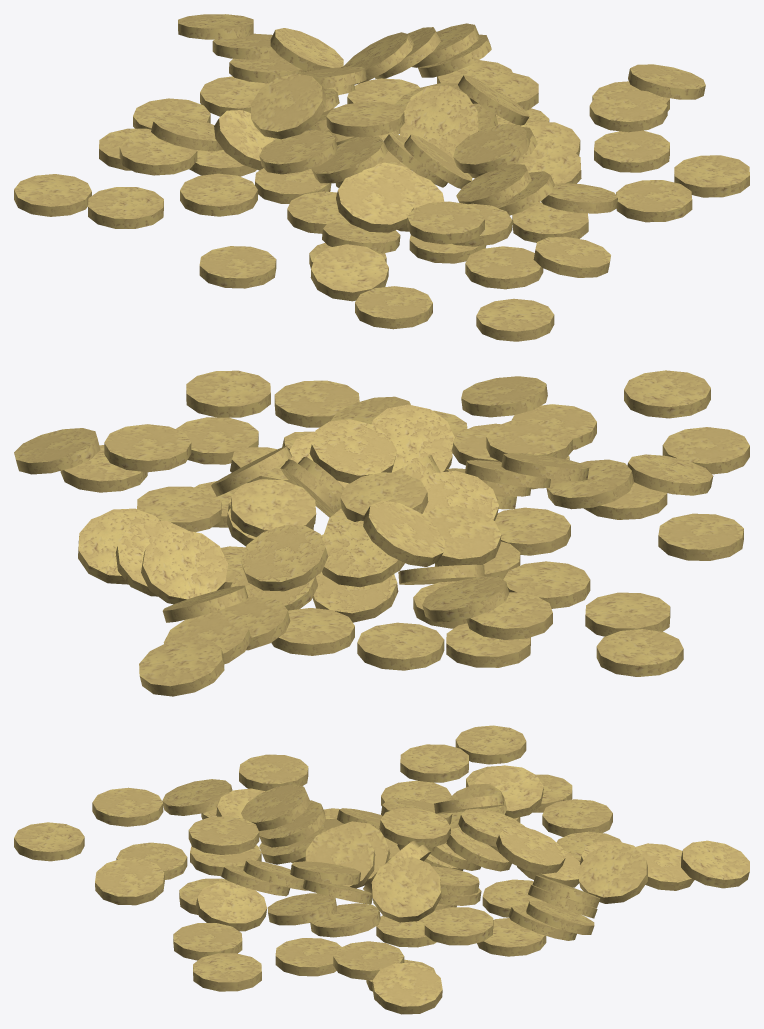
Rendered from Coins.fbx.
3 renders of one model, top to bottom at view 1: azimuth 30°, elevation 25°; view 2: azimuth 150°, elevation 25°; view 3: azimuth 270°, elevation 25°, orthographic. The views are drawn at different scales.
Parts seen in each view (by area): view 1: coin_pile; view 2: coin_pile; view 3: coin_pile.
Boxes of the visible parts, x1=… form: coin_pile: x1=14, y1=14, x2=749, y2=341; coin_pile: x1=14, y1=370, x2=749, y2=696; coin_pile: x1=14, y1=725, x2=749, y2=1014.
Size of the model in its own units: 194 by 20.28 by 215.
1 material, 1 textured.
